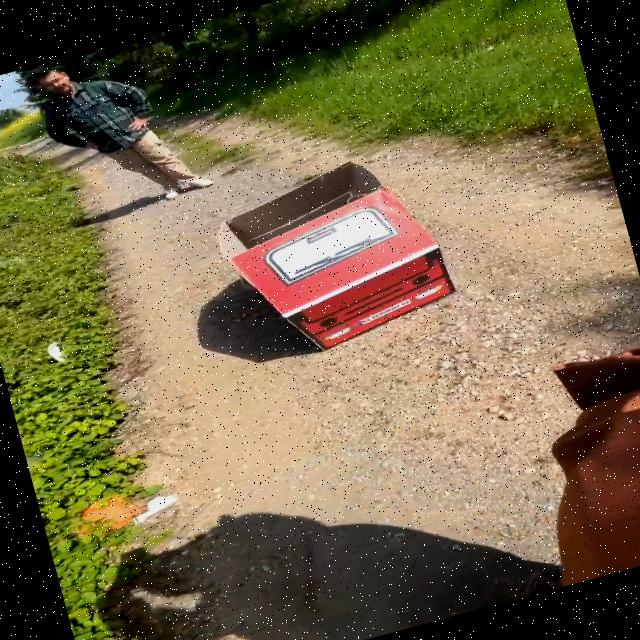red_car: (184, 120, 521, 388)
